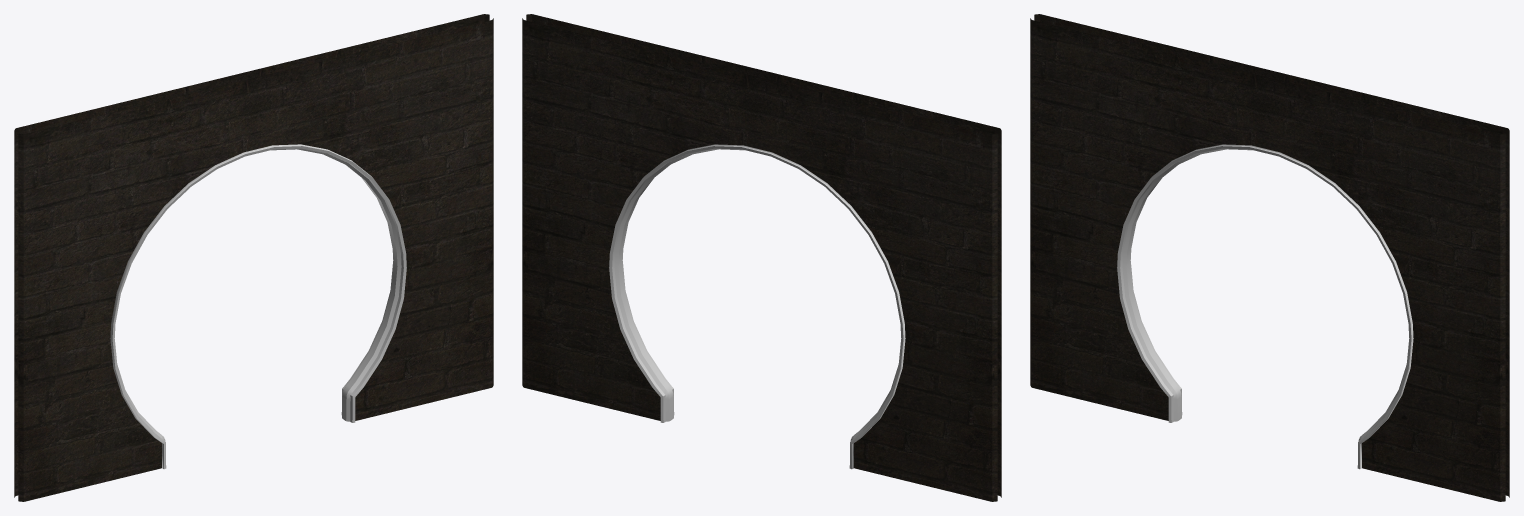
The model's file is wall_1_tunnel_hole.fbx.
The picture shows the model from 3 angles, left to right: view 1: azimuth 30°, elevation 25°; view 2: azimuth 150°, elevation 25°; view 3: azimuth 330°, elevation 25°; orthographic projection.
Parts seen in each view (by area): view 1: wall_1_tunnel_hole; view 2: wall_1_tunnel_hole; view 3: wall_1_tunnel_hole.
Part boxes in pixels (x1=…): wall_1_tunnel_hole: x1=14, y1=14, x2=493, y2=501; wall_1_tunnel_hole: x1=522, y1=14, x2=1001, y2=501; wall_1_tunnel_hole: x1=1030, y1=14, x2=1509, y2=501.
Bounding box in the file's own units: 4.06 × 0.1697 × 3.
